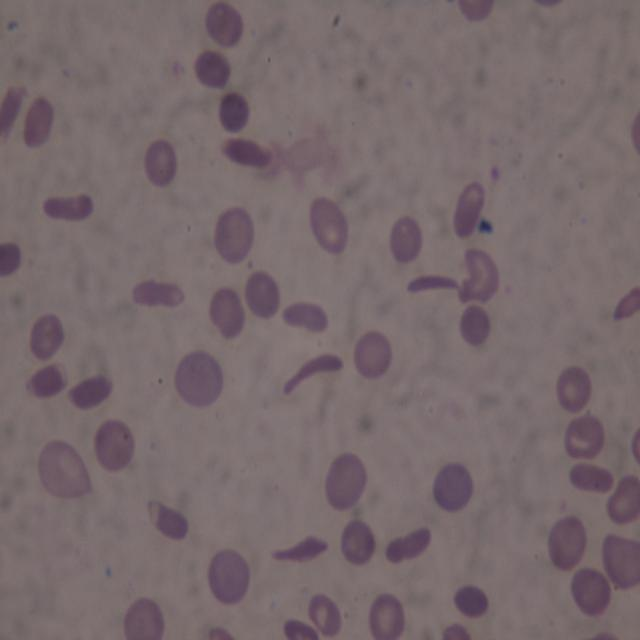Crystal: (384, 525, 430, 565), (128, 279, 186, 310), (220, 137, 274, 169), (67, 374, 113, 409), (568, 461, 614, 494), (281, 300, 329, 330), (0, 82, 24, 142), (42, 194, 94, 221), (282, 617, 320, 640)
Normal: (367, 592, 405, 639)
Others: (36, 437, 94, 499), (173, 351, 225, 408), (205, 545, 250, 606), (212, 204, 256, 264), (324, 452, 368, 511), (457, 244, 500, 304), (598, 530, 640, 590), (92, 416, 136, 472), (547, 514, 589, 572), (308, 196, 349, 255), (570, 567, 614, 617), (432, 460, 474, 510), (209, 286, 247, 341), (453, 180, 487, 240), (204, 0, 244, 49), (564, 412, 604, 461), (147, 499, 192, 542), (29, 310, 66, 362), (352, 329, 391, 378), (246, 269, 282, 320), (338, 516, 376, 564), (124, 596, 166, 639), (556, 363, 592, 412), (22, 95, 55, 147), (24, 362, 68, 401), (605, 476, 639, 525), (390, 213, 422, 264), (194, 48, 231, 90), (143, 139, 176, 186), (308, 594, 344, 636), (458, 304, 492, 348), (217, 91, 250, 132), (454, 584, 489, 618), (456, 0, 495, 22), (0, 240, 21, 276), (442, 622, 472, 640), (630, 111, 640, 158), (207, 625, 237, 640), (631, 424, 640, 468), (528, 0, 562, 8)
Sickle: (282, 354, 342, 394), (270, 534, 328, 562), (407, 273, 463, 295), (614, 286, 639, 322)
